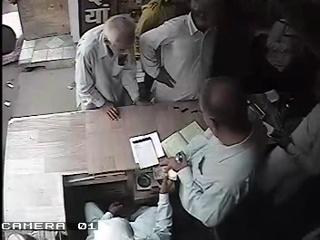Normal: (162, 76, 266, 240), (138, 0, 220, 104), (74, 13, 144, 122), (85, 167, 176, 240)
